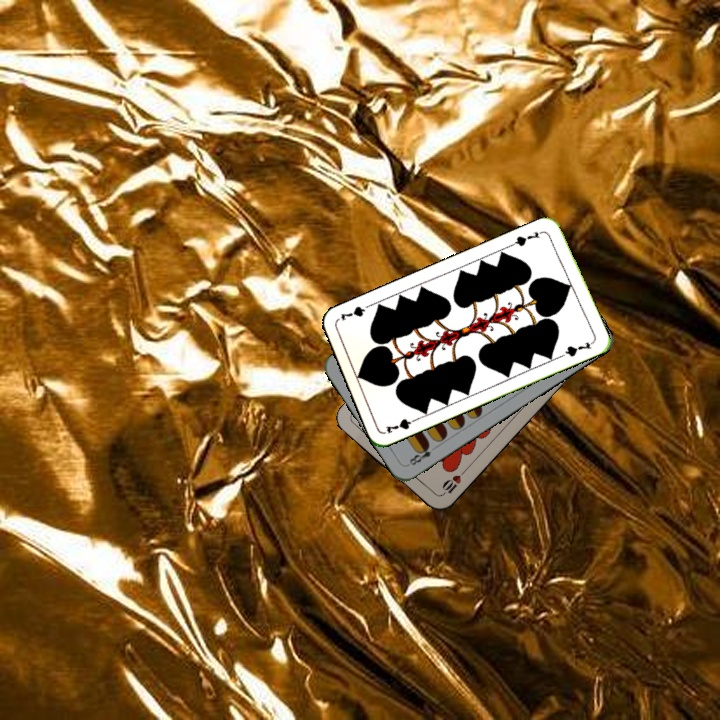E8: (404, 440, 434, 468)
G7: (382, 413, 422, 436), (508, 227, 547, 249)
H10: (437, 466, 468, 499)
